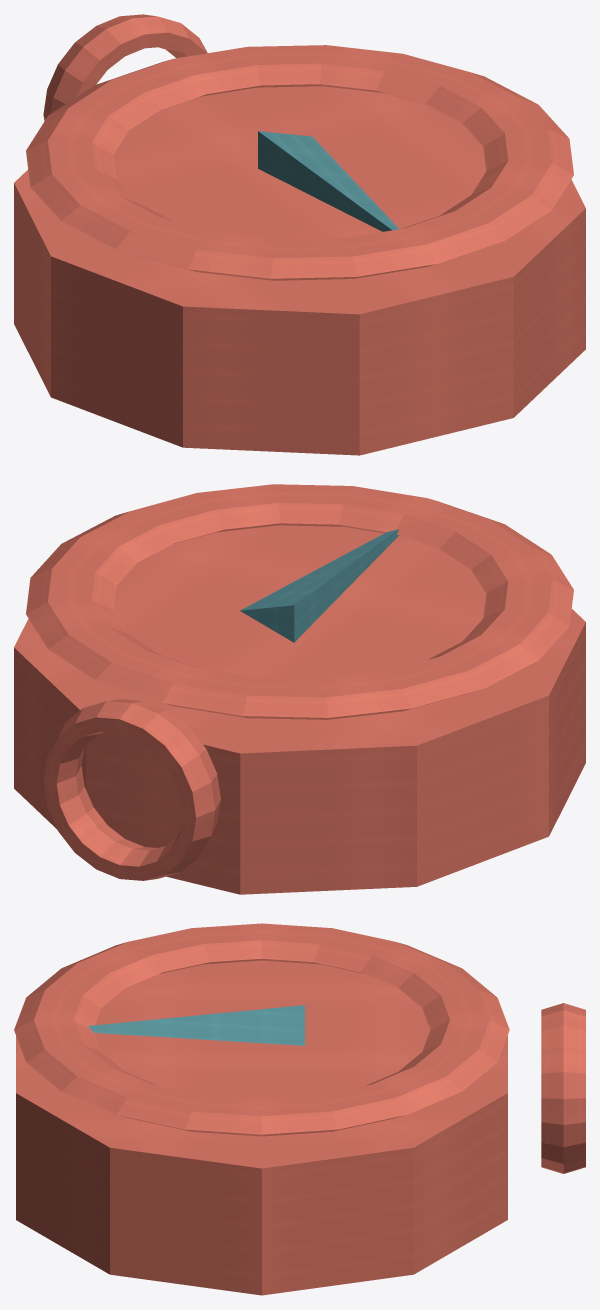
The model's file is atlas100-s077-a05.lod1.glb.
3 views of the same model, one above another, from view 1: azimuth 30°, elevation 25°; view 2: azimuth 150°, elevation 25°; view 3: azimuth 270°, elevation 25° (orthographic). The views are drawn at different scales.
Visible parts, largest first — view 1: atlas100-s077-a05:part-000, atlas100-s077-a05:part-003, atlas100-s077-a05:part-004, atlas100-s077-a05:part-002; view 2: atlas100-s077-a05:part-000, atlas100-s077-a05:part-003, atlas100-s077-a05:part-004, atlas100-s077-a05:part-002; view 3: atlas100-s077-a05:part-000, atlas100-s077-a05:part-003, atlas100-s077-a05:part-004, atlas100-s077-a05:part-002.
Boxes of the visible parts, box(x1,y1,x2,y2) form: atlas100-s077-a05:part-000: box(14, 86, 585, 455); atlas100-s077-a05:part-003: box(26, 45, 573, 280); atlas100-s077-a05:part-004: box(43, 14, 207, 120); atlas100-s077-a05:part-002: box(258, 131, 398, 231); atlas100-s077-a05:part-000: box(14, 525, 585, 894); atlas100-s077-a05:part-003: box(26, 484, 573, 719); atlas100-s077-a05:part-004: box(43, 699, 220, 880); atlas100-s077-a05:part-002: box(240, 529, 398, 642); atlas100-s077-a05:part-000: box(16, 960, 507, 1295); atlas100-s077-a05:part-003: box(14, 923, 509, 1136); atlas100-s077-a05:part-004: box(541, 1003, 585, 1173); atlas100-s077-a05:part-002: box(88, 1005, 304, 1045).
Size of the model in its own units: 0.5242 by 0.1966 by 0.5796.
Materials: 2 (2 with a texture image).
